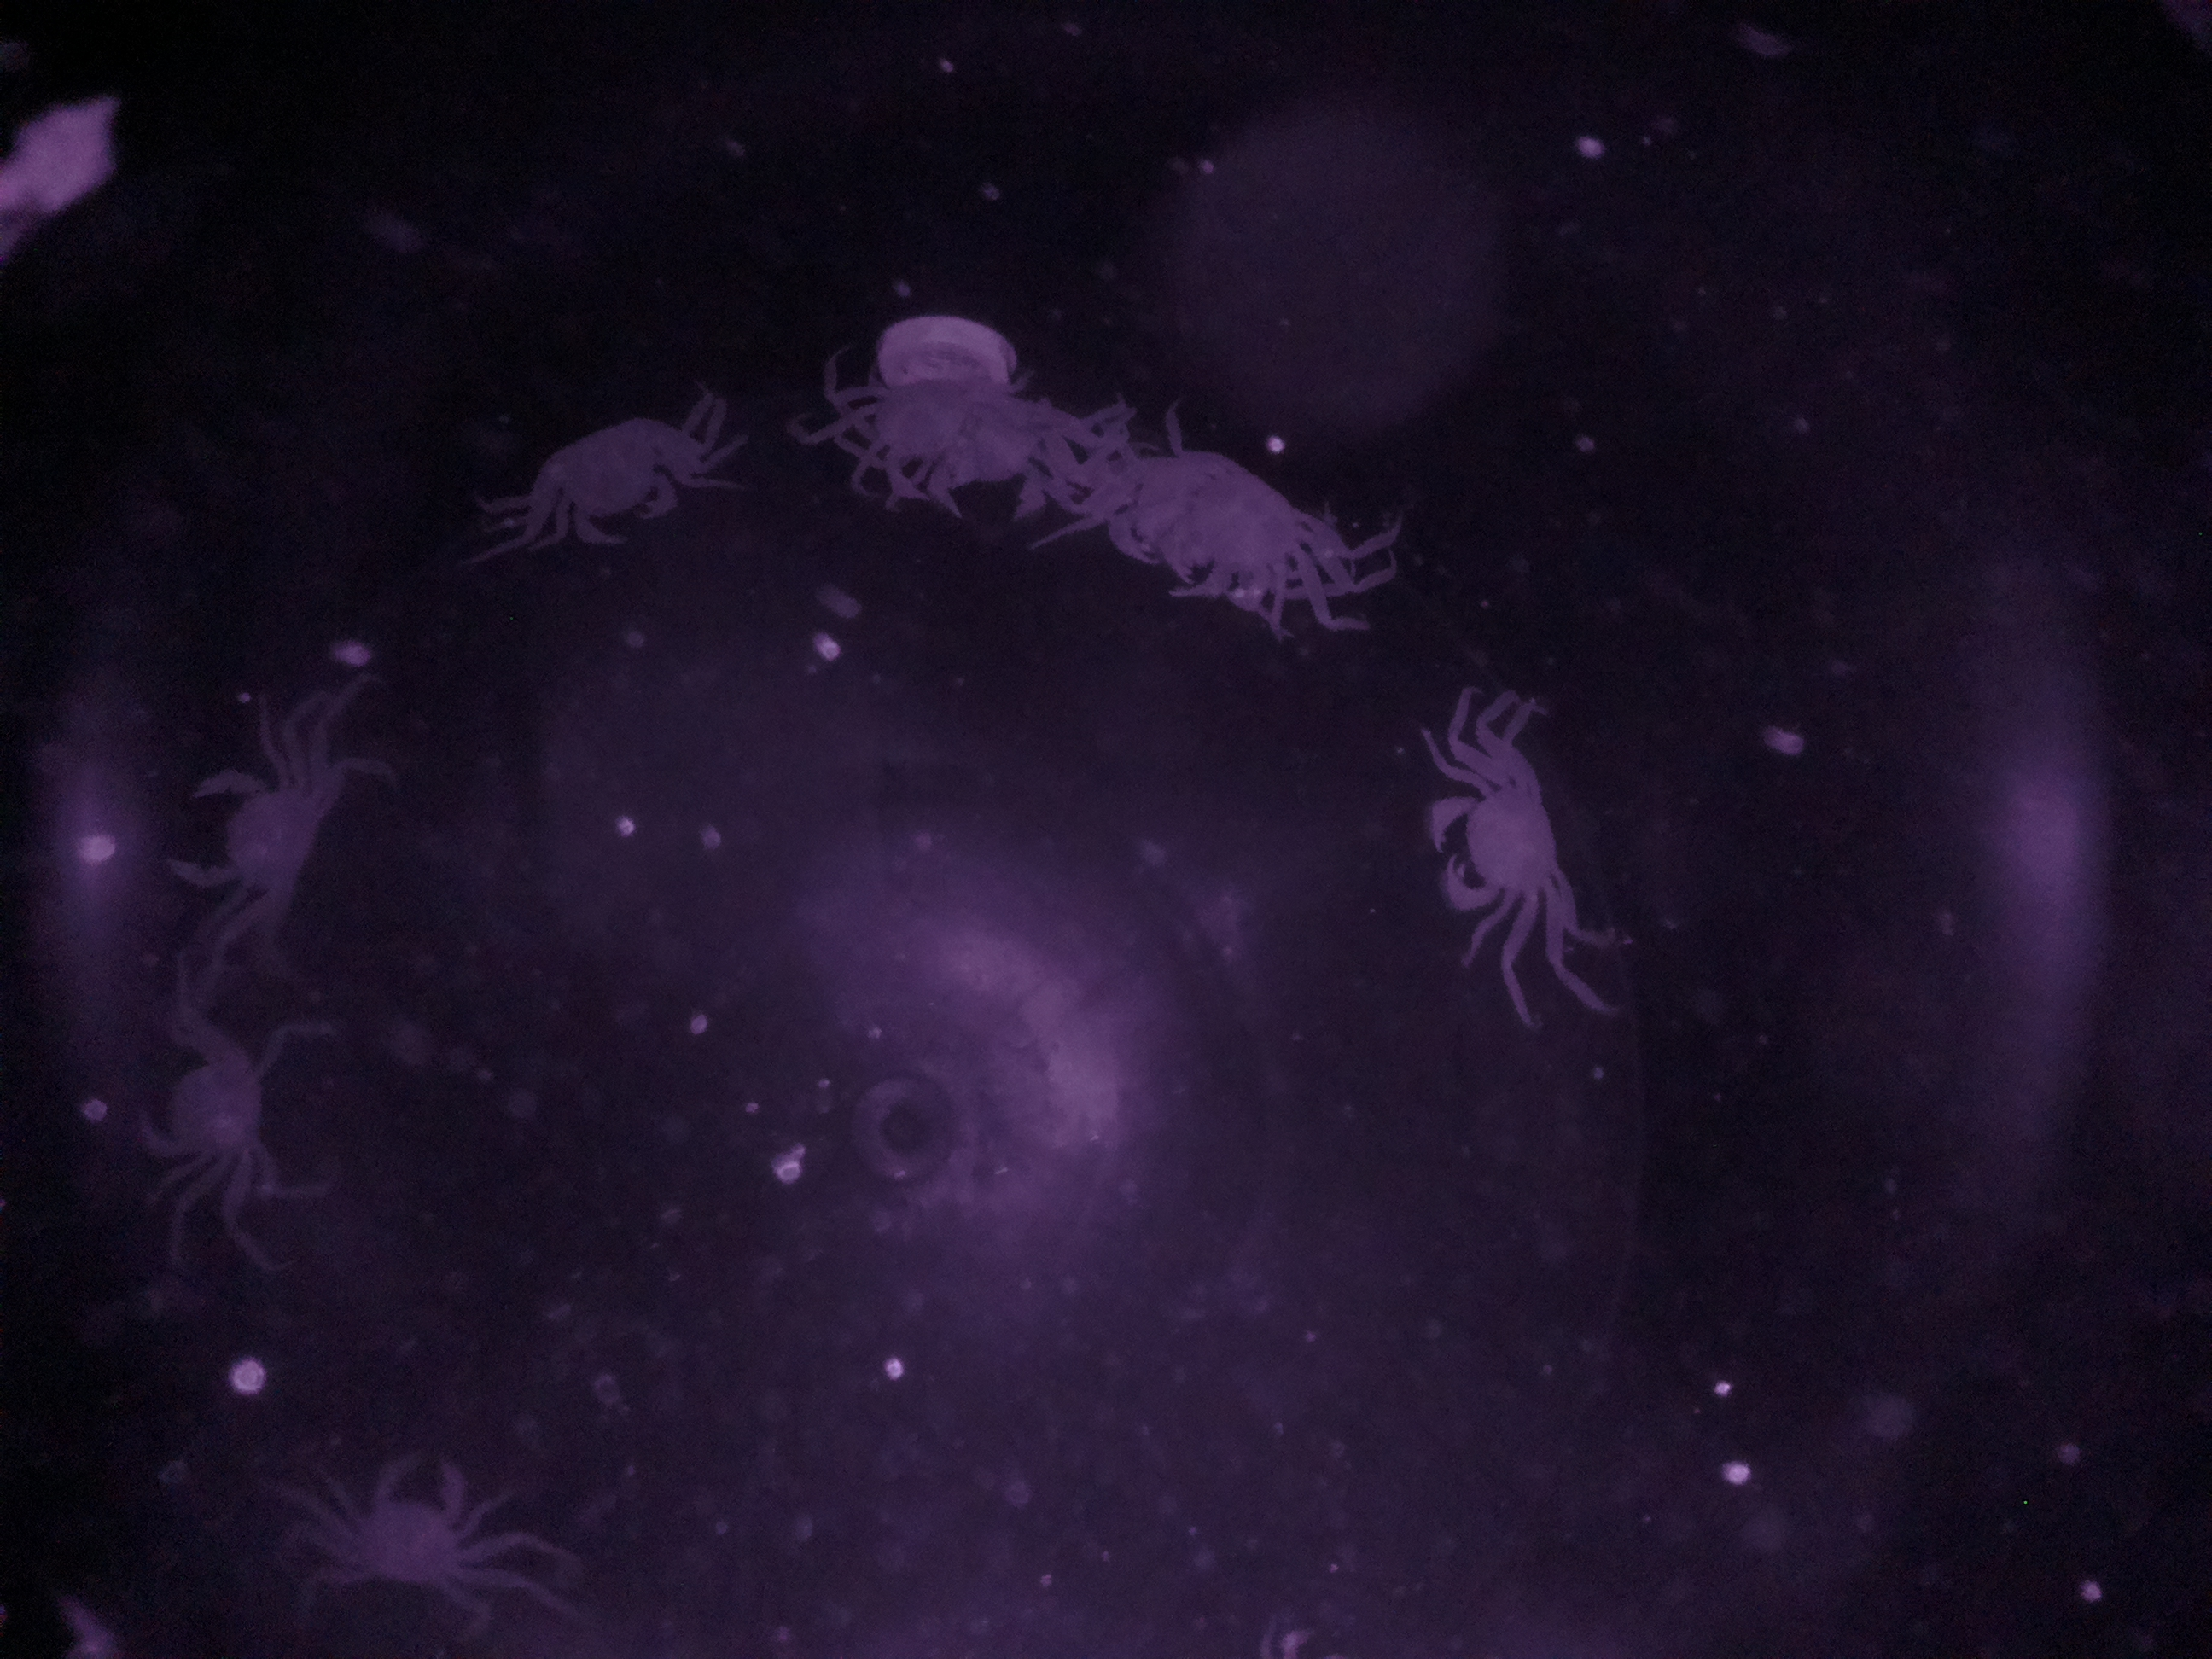Crab: (1406, 732, 1594, 967), (331, 1422, 516, 1614)
